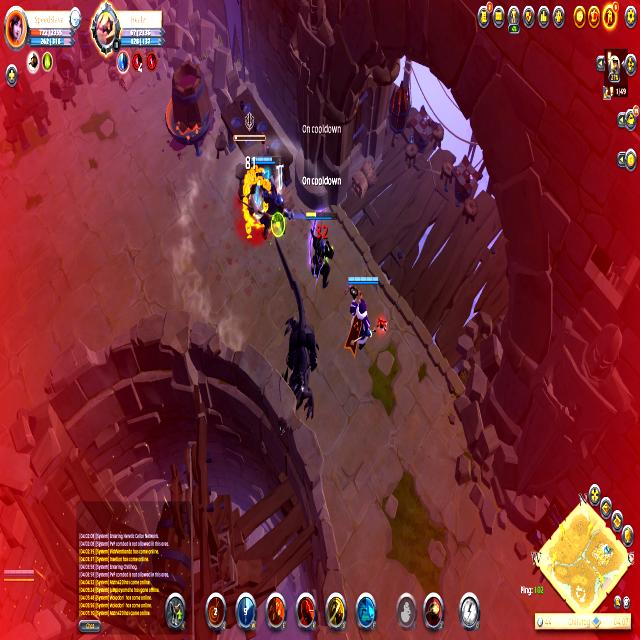ore: (232, 130, 266, 233)
red: (342, 268, 383, 357), (302, 208, 338, 286), (247, 154, 277, 241)
